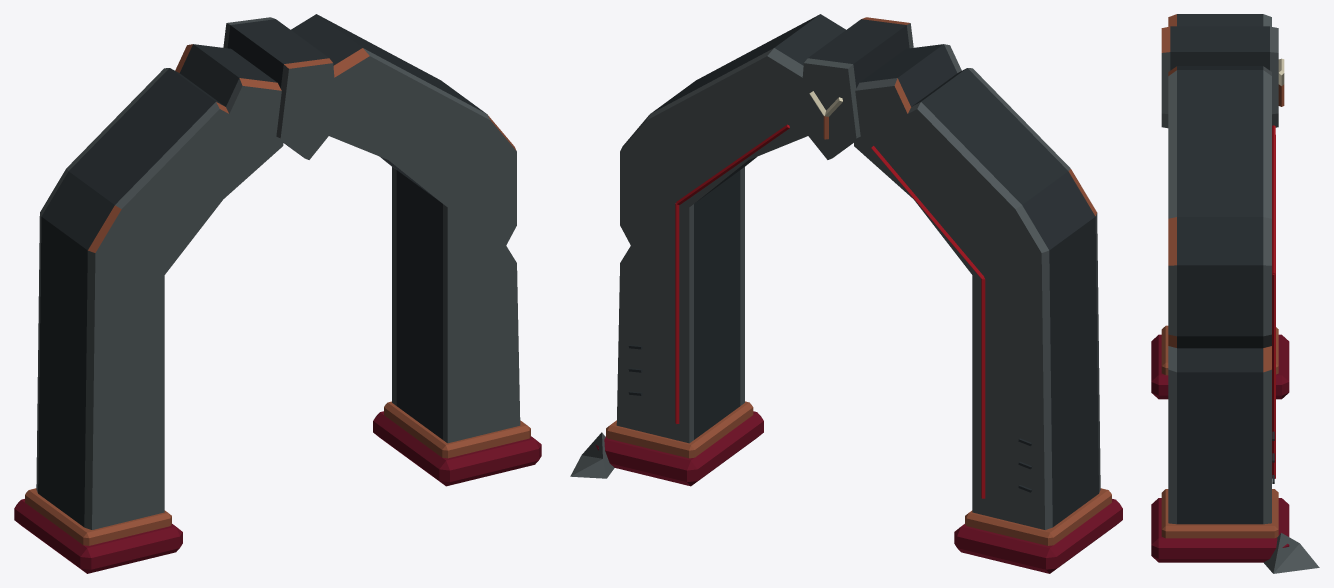
Rendered from ruin_arch.fbx.
3 views of the same model, side by side, from view 1: azimuth 30°, elevation 25°; view 2: azimuth 150°, elevation 25°; view 3: azimuth 270°, elevation 25° (orthographic). The views are drawn at different scales.
Visible parts, largest first — view 1: ruin_arch; view 2: ruin_arch; view 3: ruin_arch.
Part boxes in pixels (x1,y1,x2,y2): ruin_arch: [14, 14, 541, 573]; ruin_arch: [570, 14, 1122, 573]; ruin_arch: [1151, 14, 1319, 573].
Size of the model in its own units: 3.89 by 3.53 by 1.27.
